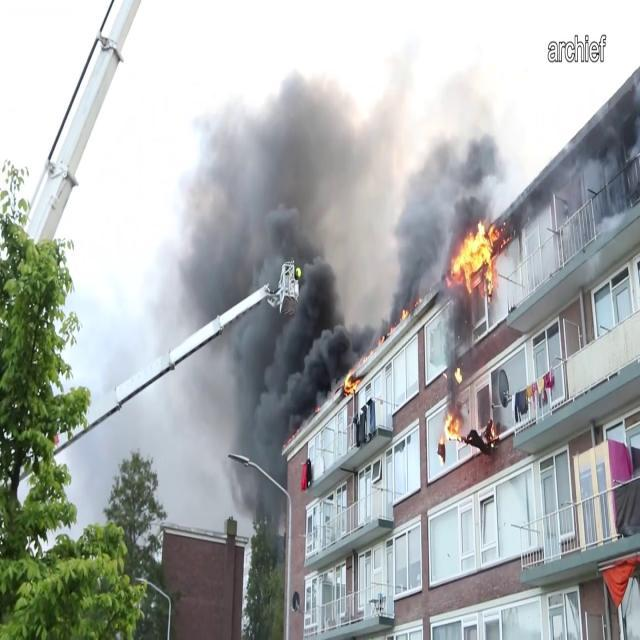Fire: (448, 217, 506, 303), (442, 408, 464, 446)
Smoke: (117, 36, 506, 446)
